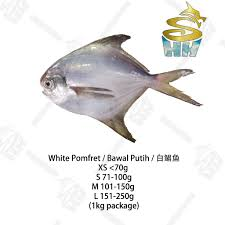Ikan Bawal: (32, 35, 211, 147)
